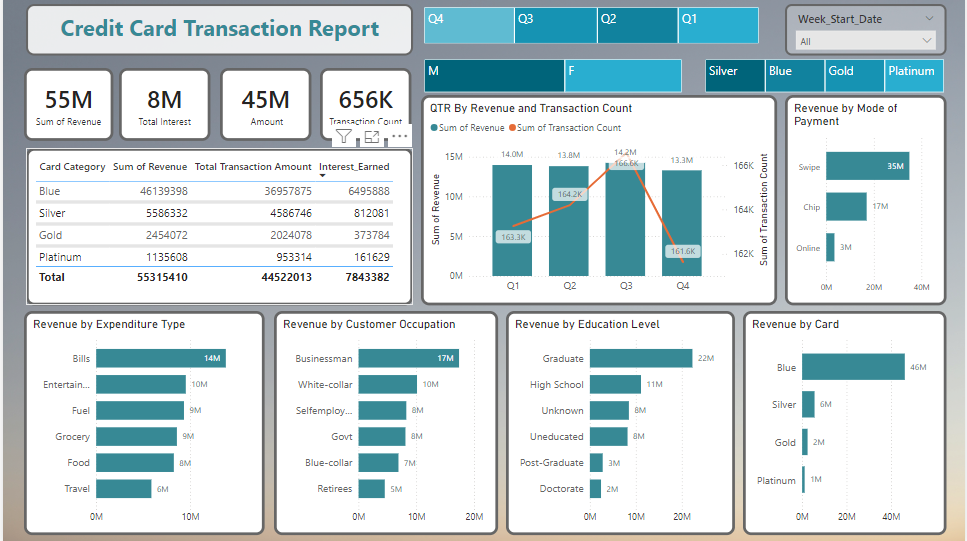

This screenshot's page, from the dashboard's own definition file:
{"tool":"powerbi","page":{"name":"cc_trans","canvas":[1400,800],"ordinal":1},"visuals":[{"type":"textbox","box":[33.6,14.4,563.2,75.2],"z":0},{"type":"card","fields":{"Values":["Sum(credit_card.Revenue)"]},"box":[30.4,107.2,129.6,105.6],"z":1000},{"type":"card","fields":{"Values":["Sum(credit_card.Interest_Earned)"]},"box":[168,107.2,132.8,105.6],"z":2000},{"type":"card","fields":{"Values":["Sum(credit_card.Total_Trans_Amt)"]},"box":[315.2,107.2,132.8,105.6],"z":3000},{"type":"card","fields":{"Values":["Sum(credit_card.Total_Trans_Vol)"]},"box":[460.8,107.2,132.8,105.6],"z":4000},{"type":"lineStackedColumnComboChart","title":"QTR By Revenue and Transaction Count","fields":{"Category":["credit_card.Qtr"],"Y":["Sum(credit_card.Revenue)"],"Y2":["Sum(credit_card.Total_Trans_Vol)"]},"box":[608,147.2,518.4,305.6],"z":5000},{"type":"barChart","title":" Revenue by Expenditure Type","fields":{"Category":["credit_card.Exp Type"],"Y":["Sum(credit_card.Revenue)"]},"box":[30.4,460.8,350.4,326.4],"z":6000},{"type":"barChart","title":" Revenue by Customer Occupation","fields":{"Y":["Sum(credit_card.Revenue)"],"Category":["customer.Customer_Job"]},"box":[393.6,460.8,326.4,326.4],"z":7000},{"type":"barChart","title":" Revenue by Education Level","fields":{"Y":["Sum(credit_card.Revenue)"],"Category":["customer.Education_Level"]},"box":[731.2,460.8,332.8,326.4],"z":8000},{"type":"barChart","title":" Revenue by Card","fields":{"Y":["Sum(credit_card.Revenue)"],"Category":["credit_card.Card_Category"]},"box":[1076.8,460.8,296,326.4],"z":9000},{"type":"tableEx","fields":{"Values":["credit_card.Card_Category","Sum(credit_card.Revenue)","Sum(credit_card.Total_Trans_Amt)","Sum(credit_card.Interest_Earned)"]},"box":[33.6,224,563.2,228.8],"z":10000},{"type":"barChart","title":" Revenue by Mode of Payment","fields":{"Y":["Sum(credit_card.Revenue)"],"Category":["credit_card.Use Chip"]},"box":[1137.6,147.2,235.2,305.6],"z":11000},{"type":"slicer","fields":{"Values":["credit_card.Week_Start_Date"]},"box":[1137.6,14.4,235.2,75.2],"z":12000},{"type":"treemap","fields":{"Group":["credit_card.Qtr"],"Values":["Avg(credit_card.Client_Num)"]},"box":[608,14.4,496,62.4],"z":13000},{"type":"treemap","fields":{"Group":["customer.Gender"],"Values":["Sum(credit_card.Revenue)"]},"box":[608,89.6,384,57.6],"z":14000},{"type":"treemap","fields":{"Group":["credit_card.Card_Category"],"Values":["Avg(credit_card.Client_Num)"]},"box":[1016,89.6,356.8,57.6],"z":15000}]}

Visuals, with their boxes in screenshot pixels (x1, y1, x2, y2), scaled from the page's 1400x800 canvas onto the 967x541 screenshot:
textbox: 23, 10, 412, 61
card - Sum(credit_card.Revenue): 21, 72, 111, 144
card - Sum(credit_card.Interest_Earned): 116, 72, 208, 144
card - Sum(credit_card.Total_Trans_Amt): 218, 72, 309, 144
card - Sum(credit_card.Total_Trans_Vol): 318, 72, 410, 144
"QTR By Revenue and Transaction Count" lineStackedColumnComboChart: 420, 100, 778, 306
" Revenue by Expenditure Type" barChart: 21, 312, 263, 532
" Revenue by Customer Occupation" barChart: 272, 312, 497, 532
" Revenue by Education Level" barChart: 505, 312, 735, 532
" Revenue by Card" barChart: 744, 312, 948, 532
tableEx - credit_card.Card_Category x Sum(credit_card.Revenue): 23, 151, 412, 306
" Revenue by Mode of Payment" barChart: 786, 100, 948, 306
slicer - credit_card.Week_Start_Date: 786, 10, 948, 61
treemap - credit_card.Qtr x Avg(credit_card.Client_Num): 420, 10, 763, 52
treemap - customer.Gender x Sum(credit_card.Revenue): 420, 61, 685, 100
treemap - credit_card.Card_Category x Avg(credit_card.Client_Num): 702, 61, 948, 100
